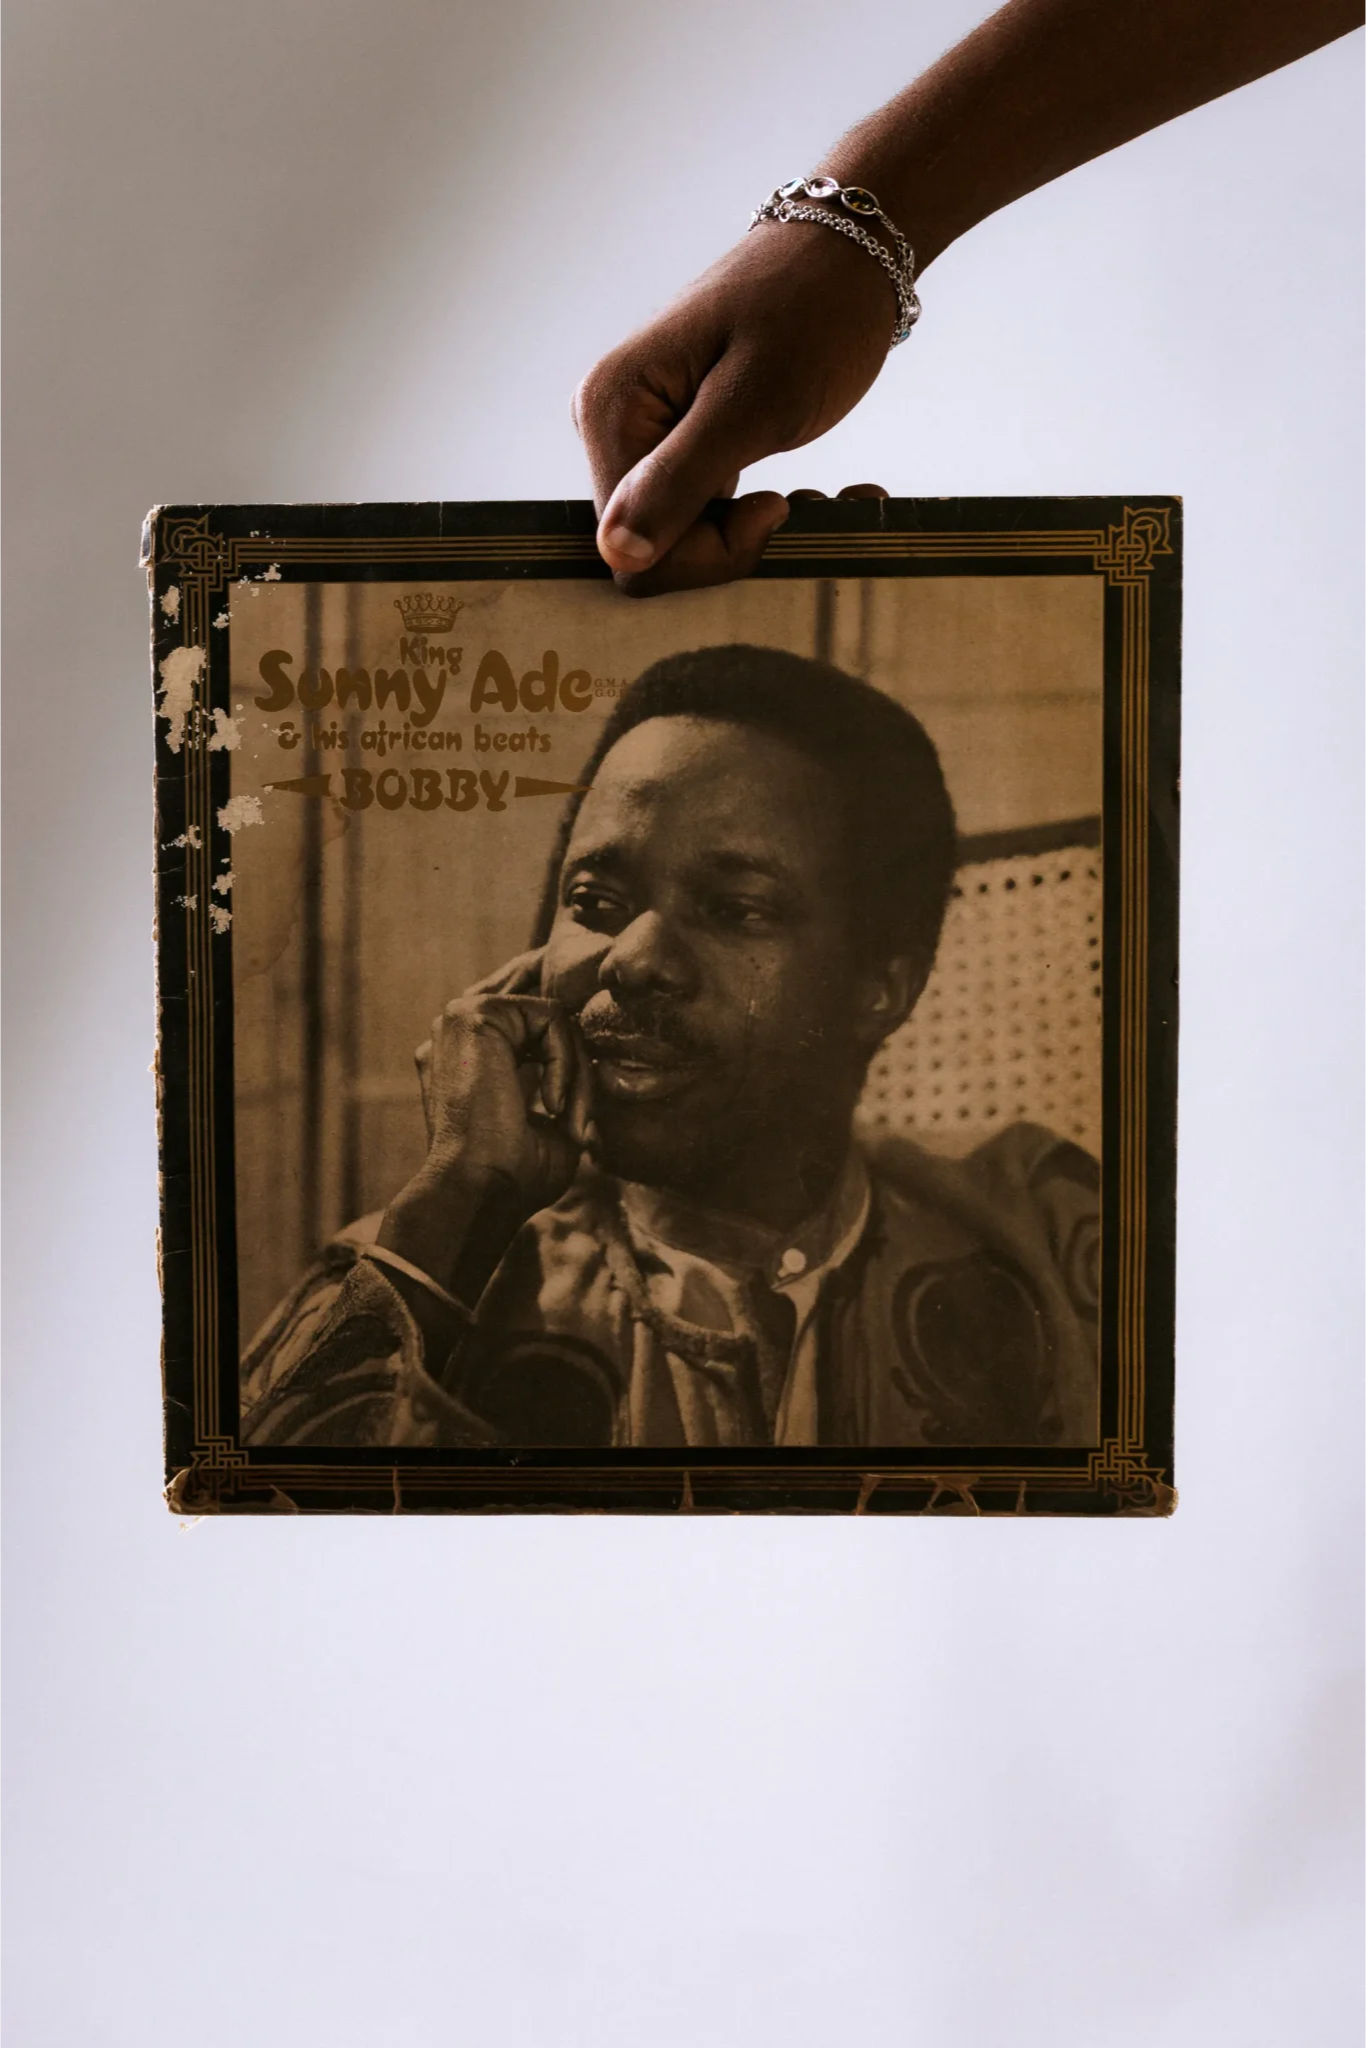king sunny ade_bobby: (130, 485, 1203, 1528)
